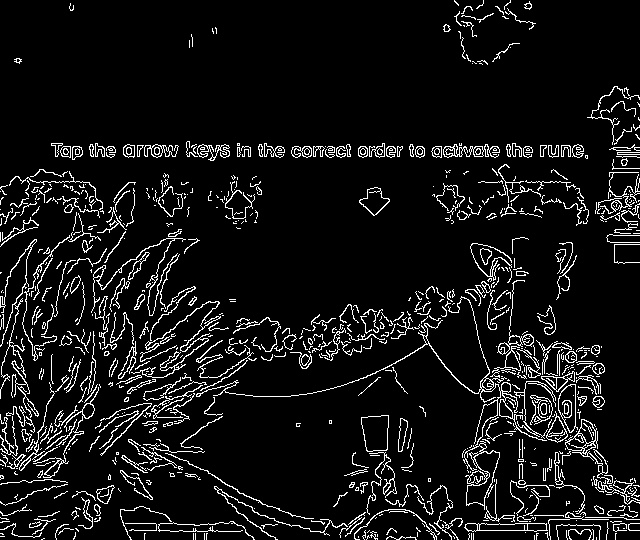down: (351, 182, 398, 222), (428, 180, 470, 218)
left: (153, 182, 190, 222)
up: (219, 186, 257, 225)
